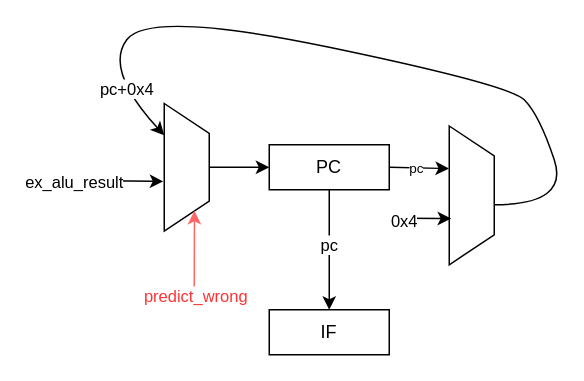
The diagram is 584 pixels wide and 381 high, and some of its shapes have lost their labels. The shapes that lost their labels are listed below. From the top down, each one's box as (x1, y1, x2, y2) in pixels, then its label:
(163, 102, 209, 231): M U X
(448, 124, 494, 265): ALU
